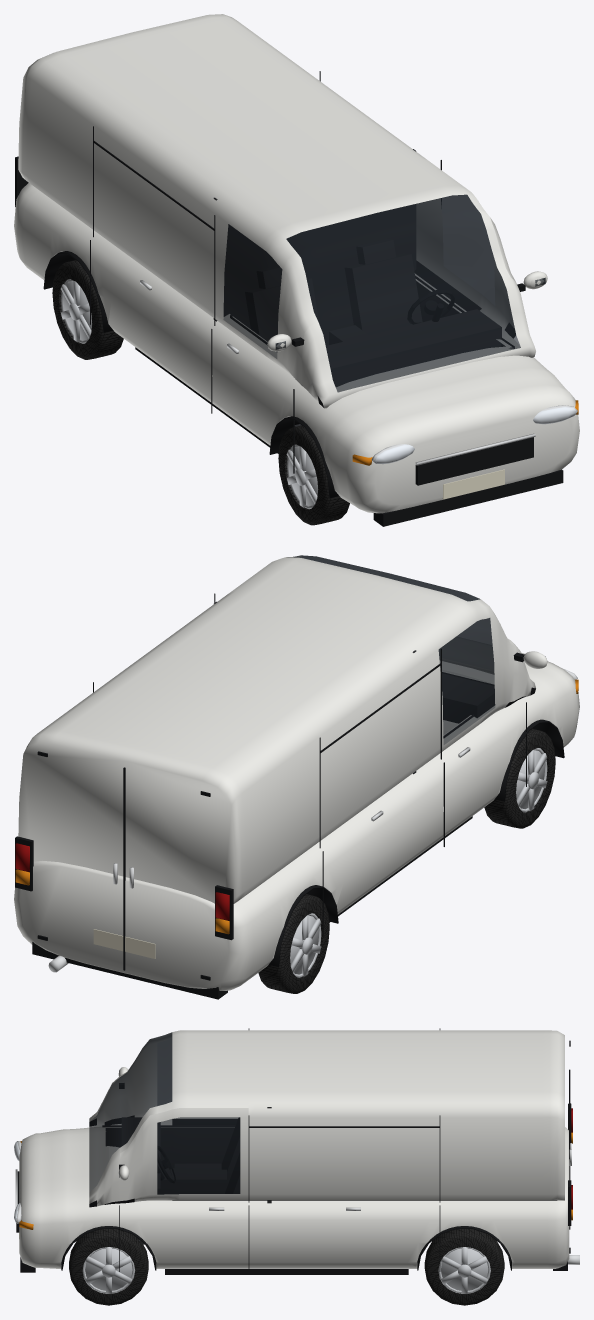
File: car_van.glb
3 views of the same model, one above another, from view 1: azimuth 30°, elevation 25°; view 2: azimuth 150°, elevation 25°; view 3: azimuth 270°, elevation 25° (orthographic). The views are drawn at different scales.
Visible parts, largest first — view 1: Body, Door_L, wheel_FR, wheel_RR; view 2: Body, wheel_RR, wheel_FR; view 3: Body, Door_L, wheel_RL, wheel_FL.
Boxes of the visible parts, bbox=[...] form: Body: bbox=[14, 14, 579, 526]; Door_L: bbox=[416, 195, 547, 340]; wheel_FR: bbox=[278, 425, 349, 525]; wheel_RR: bbox=[52, 260, 123, 359]; Body: bbox=[14, 555, 579, 999]; wheel_RR: bbox=[258, 894, 329, 993]; wheel_FR: bbox=[484, 728, 555, 828]; Body: bbox=[14, 1028, 579, 1274]; Door_L: bbox=[120, 1108, 248, 1270]; wheel_RL: bbox=[424, 1229, 504, 1305]; wheel_FL: bbox=[69, 1229, 148, 1305].
Bounding box in the file's own units: 2.36 × 2.05 × 5.25.
12 materials, 1 textured.
